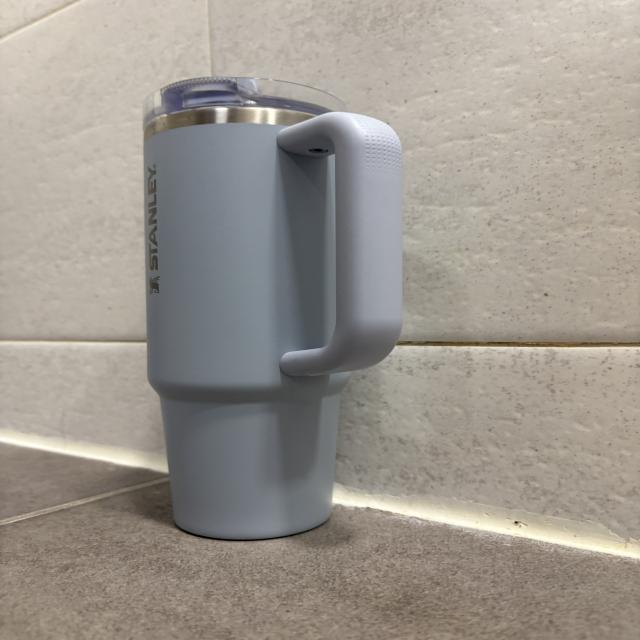waterbottle: (143, 76, 395, 541)
